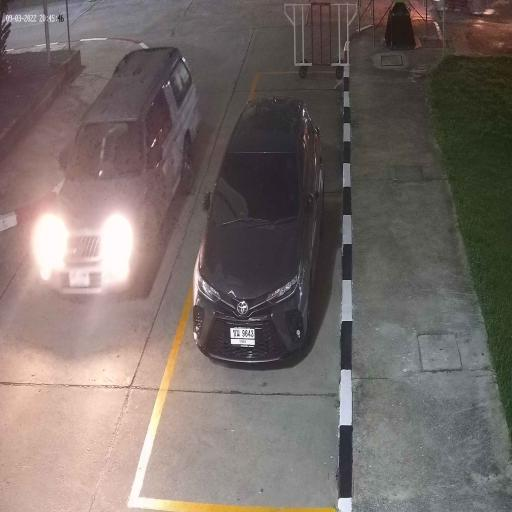car: (44, 48, 198, 299), (193, 98, 322, 363)
